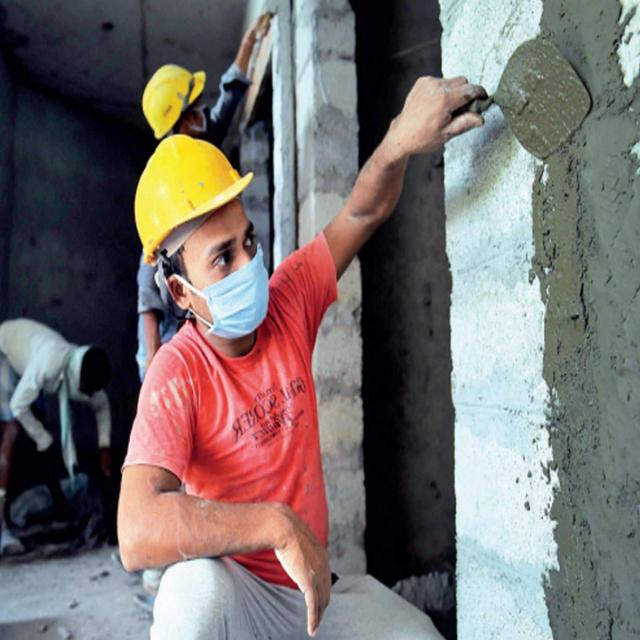Safety-Helmet: (131, 136, 256, 258), (140, 59, 205, 139)
